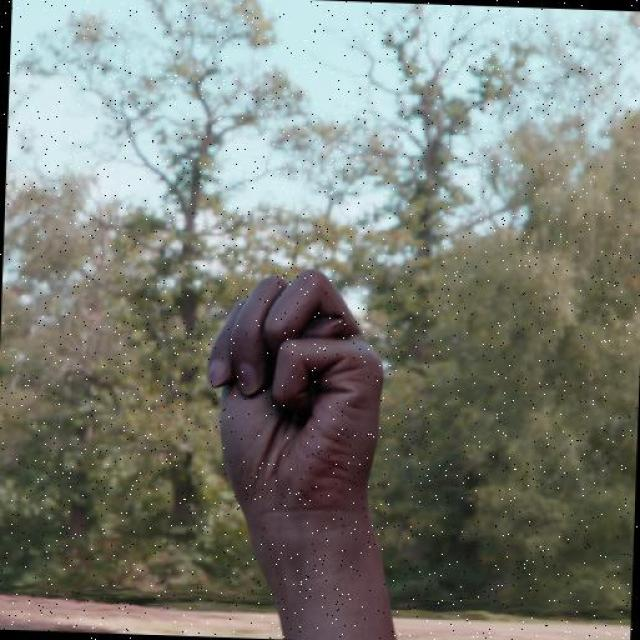M: (198, 262, 388, 527)
